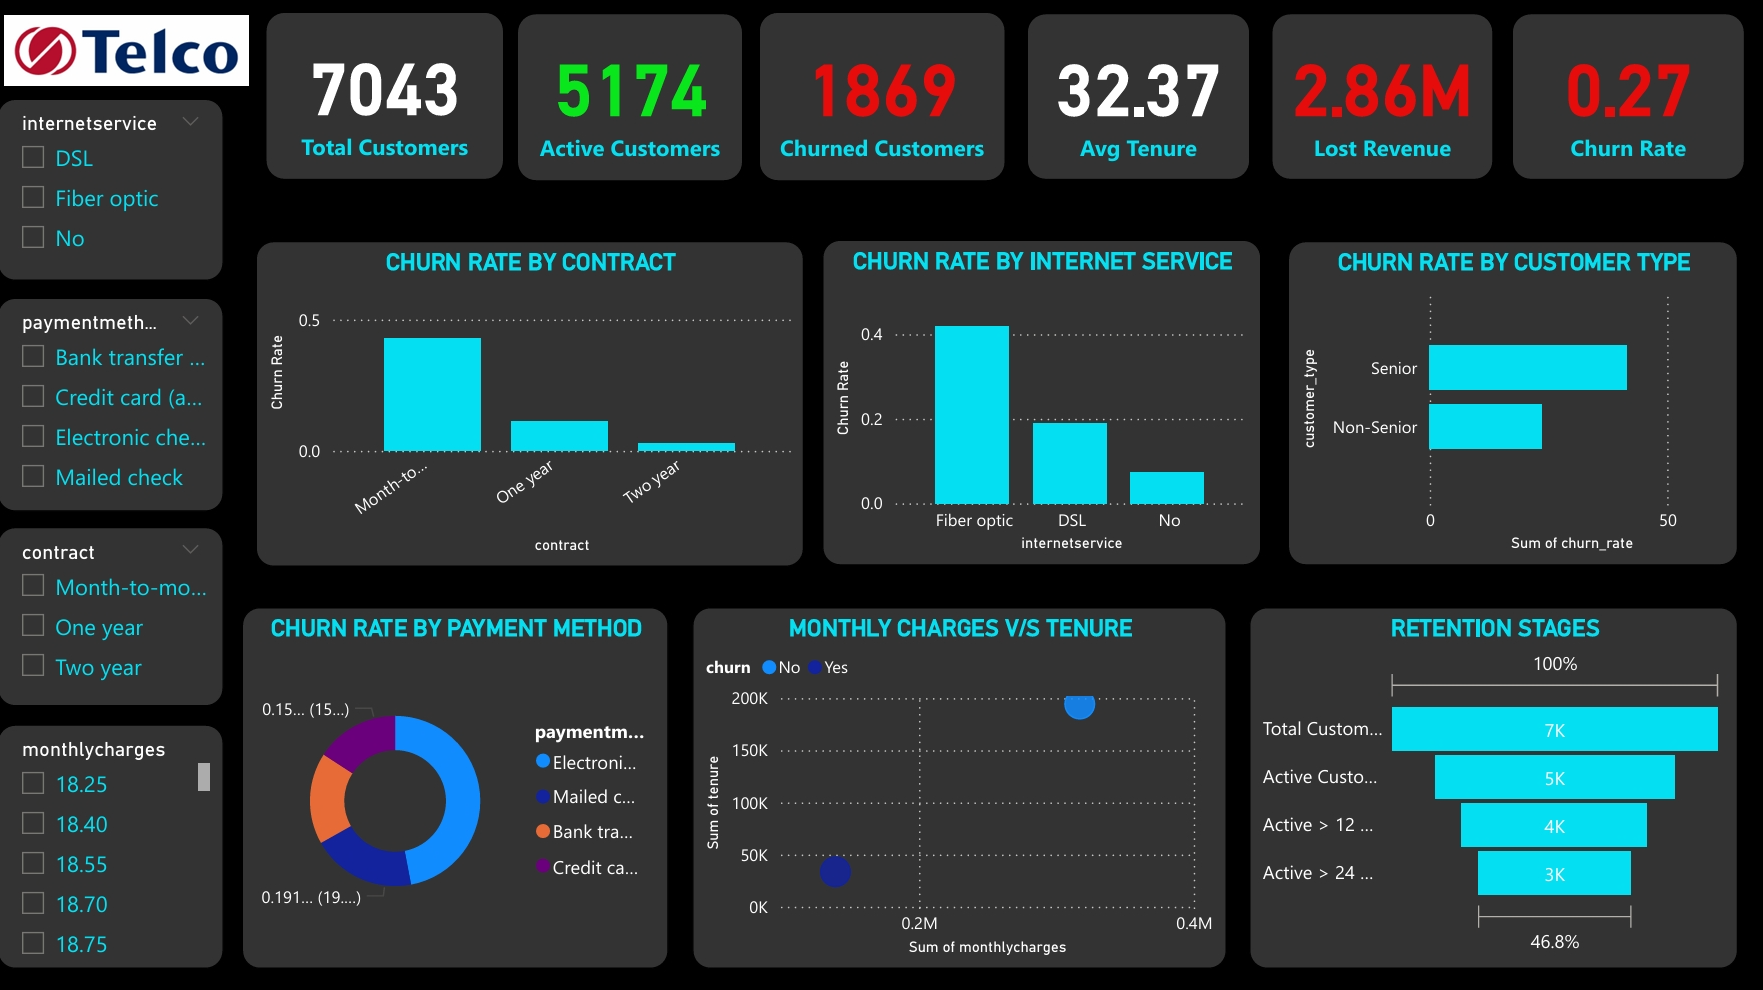

The dashboard page shown, as its layout file describes it:
{"tool":"powerbi","page":{"name":"CHURN ANALYSIS DASHBOARD","canvas":[1280,720],"ordinal":3},"visuals":[{"type":"image","box":[0,0,186.5,74.8],"z":0},{"type":"card","fields":{"Values":["raw_data.Churn Rate"]},"box":[1097,11,167,119],"z":1000},{"type":"card","fields":{"Values":["raw_data.Lost Revenue"]},"box":[923,11,159,119],"z":2000},{"type":"card","fields":{"Values":["raw_data.Churned Customers"]},"box":[552.2,9.8,176.7,121.5],"z":3000},{"type":"card","fields":{"Values":["raw_data.Total Customers"]},"box":[195.1,9.8,170.6,120.2],"z":4000},{"type":"card","fields":{"Values":["raw_data.Avg Tenure"]},"box":[746,11,160,119],"z":5000},{"type":"card","fields":{"Values":["raw_data.Active Customers"]},"box":[376.7,11,162,120.2],"z":6000},{"type":"slicer","fields":{"Values":["raw_data.contract"]},"box":[0,381.6,164.4,130.1],"z":7000},{"type":"slicer","fields":{"Values":["raw_data.monthlycharges"]},"box":[0,525.2,164.4,176.7],"z":8000},{"type":"slicer","fields":{"Values":["raw_data.paymentmethod"]},"box":[0,216,164.4,154.6],"z":9000},{"type":"slicer","fields":{"Values":["raw_data.internetservice"]},"box":[0,72.4,164.4,131.3],"z":10000},{"type":"columnChart","title":"CHURN RATE BY CONTRACT","fields":{"Y":["raw_data.Churn Rate"],"Category":["raw_data.contract"]},"box":[187,175,397,236],"z":11000},{"type":"columnChart","title":"CHURN RATE BY INTERNET SERVICE","fields":{"Y":["raw_data.Churn Rate"],"Category":["raw_data.internetservice"]},"box":[597,174,318,236],"z":12000},{"type":"donutChart","title":"CHURN RATE BY PAYMENT METHOD","fields":{"Y":["raw_data.Churn Rate"],"Category":["raw_data.paymentmethod"]},"box":[176.7,440.5,309.2,261.4],"z":13000},{"type":"barChart","title":"CHURN RATE BY CUSTOMER TYPE","fields":{"Y":["Sum(churn_rate_by_senior_citizen.churn_rate)"],"Category":["churn_rate_by_senior_citizen.customer_type"]},"box":[934,175,326,235],"z":14000},{"type":"funnel","title":"RETENTION STAGES","fields":{"Y":["RetentionStages.Customers"],"Category":["RetentionStages.Stage"]},"box":[906,440,354,262],"z":15000},{"type":"scatterChart","title":"MONTHLY CHARGES V/S TENURE","fields":{"X":["Sum(raw_data.monthlycharges)"],"Y":["Sum(raw_data.tenure)"],"Size":["raw_data.Churned Customers"],"Series":["raw_data.churn"]},"box":[503.1,440.5,386.5,261.4],"z":16000}]}

Visuals, with their boxes in screenshot pixels (x1, y1, x2, y2), scaled from the page's 1280x720 canvas onto the 1763x990 screenshot:
image: {"left": 0, "top": 0, "right": 257, "bottom": 103}
card - raw_data.Churn Rate: {"left": 1511, "top": 15, "right": 1741, "bottom": 179}
card - raw_data.Lost Revenue: {"left": 1271, "top": 15, "right": 1490, "bottom": 179}
card - raw_data.Churned Customers: {"left": 761, "top": 13, "right": 1004, "bottom": 181}
card - raw_data.Total Customers: {"left": 269, "top": 13, "right": 504, "bottom": 179}
card - raw_data.Avg Tenure: {"left": 1027, "top": 15, "right": 1248, "bottom": 179}
card - raw_data.Active Customers: {"left": 519, "top": 15, "right": 742, "bottom": 180}
slicer - raw_data.contract: {"left": 0, "top": 525, "right": 226, "bottom": 704}
slicer - raw_data.monthlycharges: {"left": 0, "top": 722, "right": 226, "bottom": 965}
slicer - raw_data.paymentmethod: {"left": 0, "top": 297, "right": 226, "bottom": 510}
slicer - raw_data.internetservice: {"left": 0, "top": 100, "right": 226, "bottom": 280}
"CHURN RATE BY CONTRACT" columnChart: {"left": 258, "top": 241, "right": 804, "bottom": 565}
"CHURN RATE BY INTERNET SERVICE" columnChart: {"left": 822, "top": 239, "right": 1260, "bottom": 564}
"CHURN RATE BY PAYMENT METHOD" donutChart: {"left": 243, "top": 606, "right": 669, "bottom": 965}
"CHURN RATE BY CUSTOMER TYPE" barChart: {"left": 1286, "top": 241, "right": 1735, "bottom": 564}
"RETENTION STAGES" funnel: {"left": 1248, "top": 605, "right": 1735, "bottom": 965}
"MONTHLY CHARGES V/S TENURE" scatterChart: {"left": 693, "top": 606, "right": 1225, "bottom": 965}
